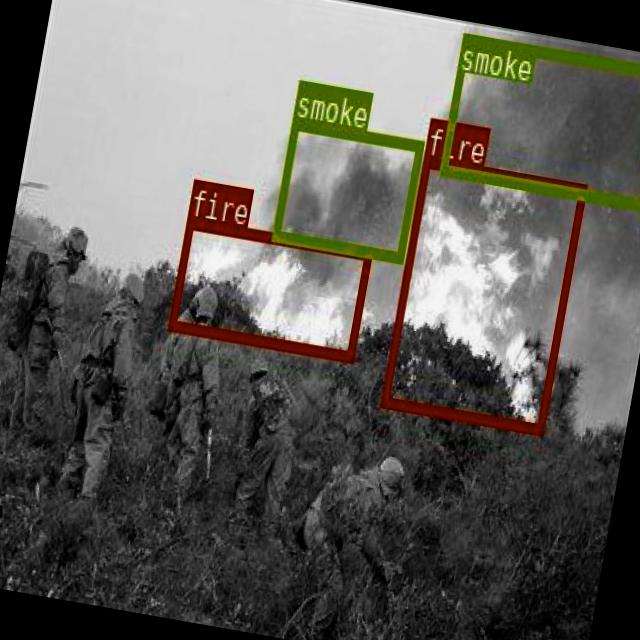fire: (378, 154, 585, 433), (166, 216, 372, 361)
smoke: (438, 30, 640, 207), (270, 116, 422, 261)
